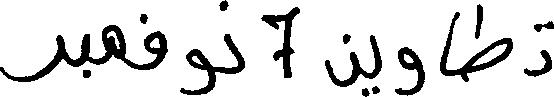X: (465, 0, 511, 86), (0, 30, 63, 86), (263, 2, 298, 82), (326, 29, 360, 91), (523, 16, 553, 81), (182, 44, 215, 96), (396, 42, 424, 96), (226, 0, 244, 78), (145, 9, 166, 74), (441, 7, 457, 80), (103, 20, 125, 68), (369, 30, 382, 96), (83, 29, 88, 82)
